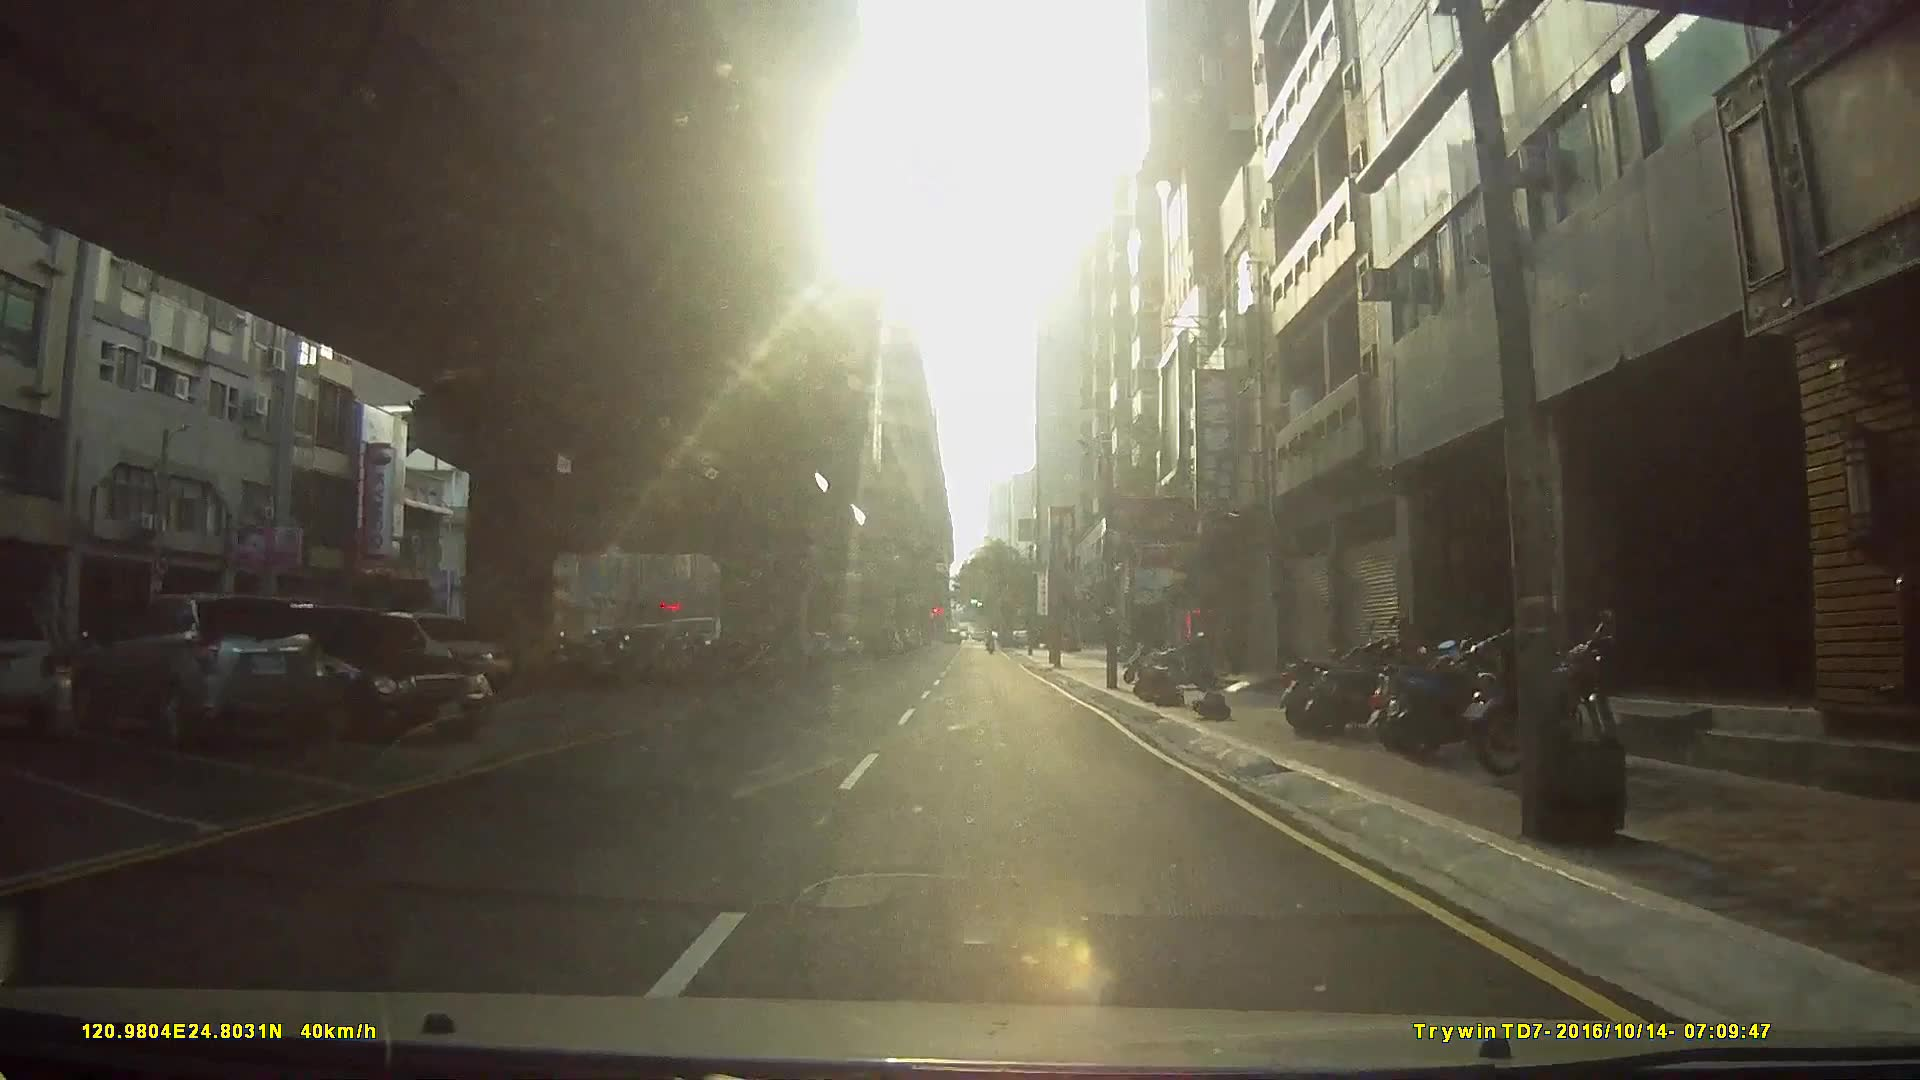vehicle: (66, 589, 326, 748), (215, 603, 489, 740), (360, 611, 512, 694), (0, 592, 59, 735)
